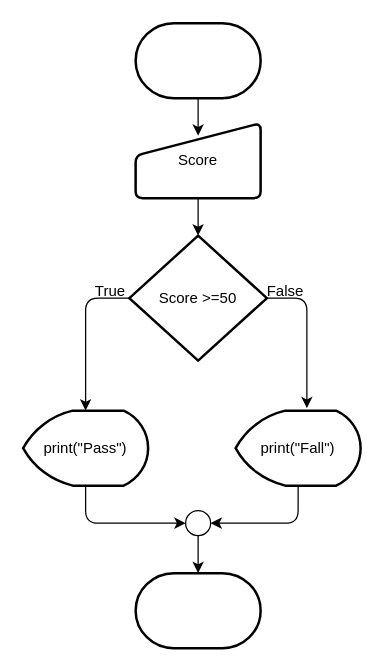
This 383x670 diagram has some shape labels left out. The shapes that lost their labels are listed below. From the top down, each one's centre as x and y in pixels, then its label:
(197,60): Start
(197,610): End
